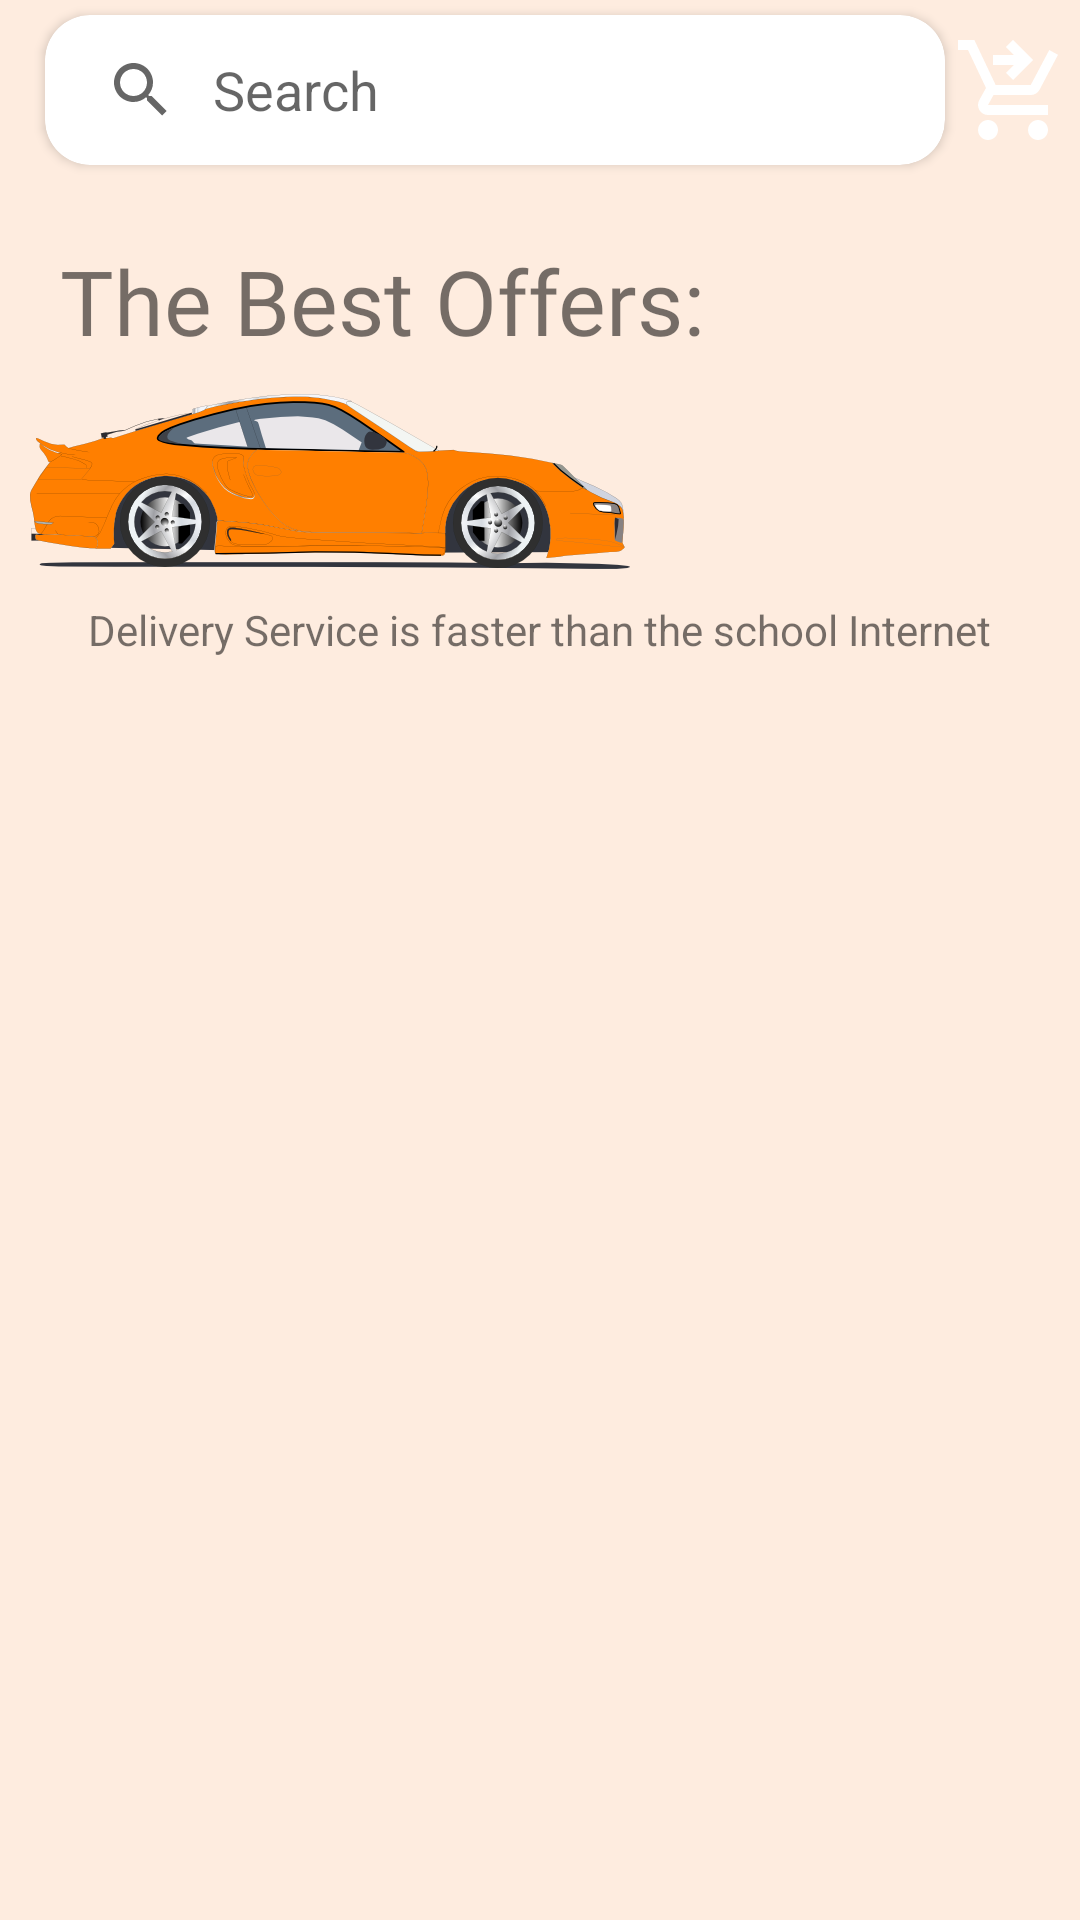

Named icons in this screenshot (1080w x 1920h) and their bounding boxes, (x1=x1, y1=y1, x2=x2, y2=y2):
shopping cart checkout: (x1=958, y1=40, x2=1057, y2=140)
